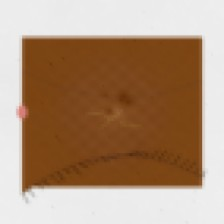corneal_ulcer: (84, 92, 147, 142)
